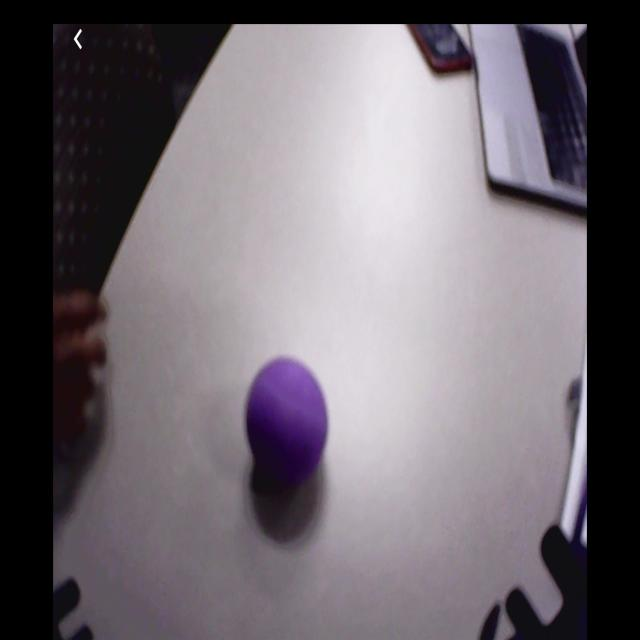ball: (247, 357, 329, 480)
